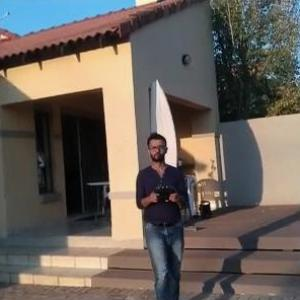follow: (132, 127, 194, 299)
